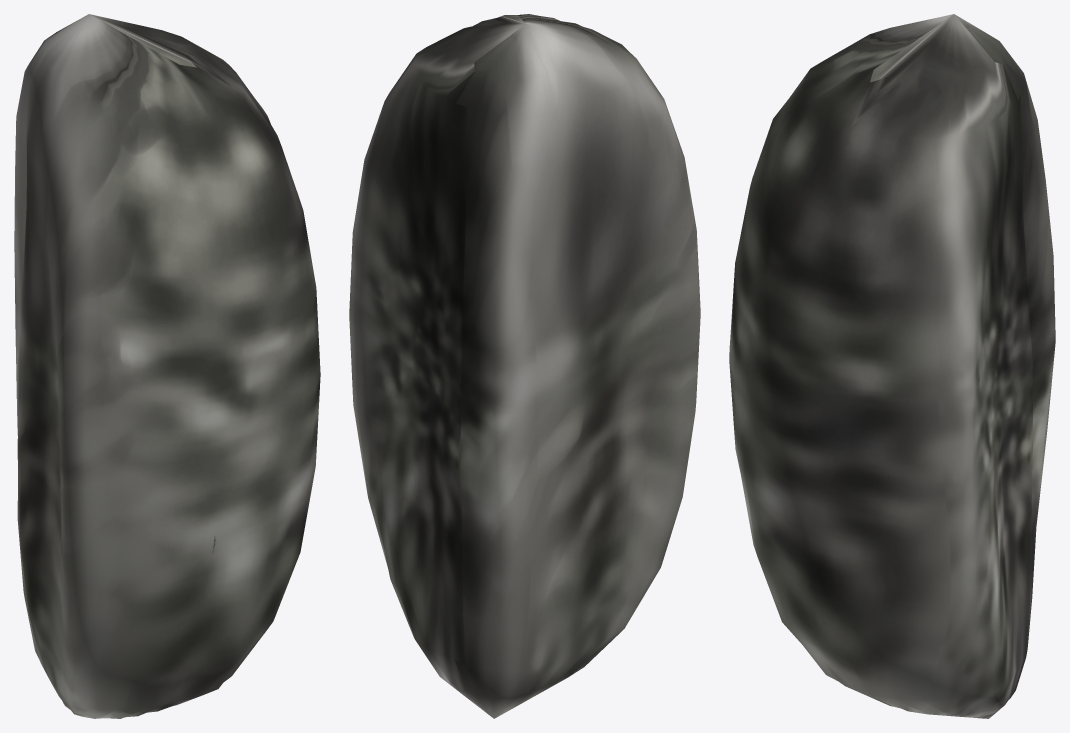
The model's file is Onion_seed.fbx.
The picture shows the model from 3 angles, left to right: view 1: azimuth 30°, elevation 25°; view 2: azimuth 150°, elevation 25°; view 3: azimuth 270°, elevation 25°; orthographic projection. The views are drawn at different scales.
Parts seen in each view (by area): view 1: pCylinder1; view 2: pCylinder1; view 3: pCylinder1.
Boxes of the visible parts, bbox=[...] form: pCylinder1: bbox=[14, 14, 320, 718]; pCylinder1: bbox=[349, 14, 700, 718]; pCylinder1: bbox=[729, 14, 1055, 718].
Size of the model in its own units: 2.21 by 5.2 by 2.21.
